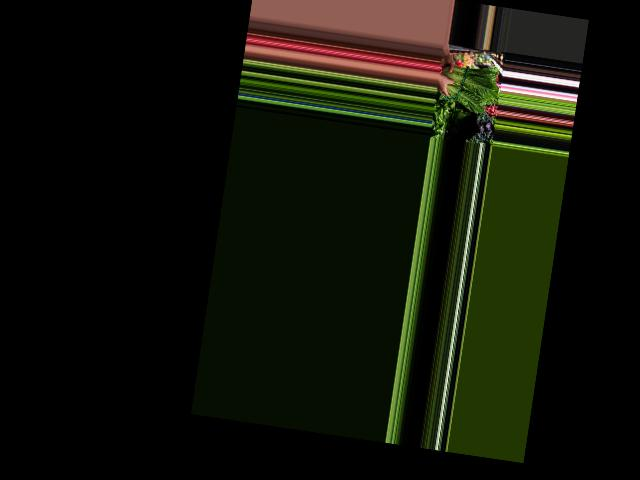lettuce: (433, 61, 499, 116)
